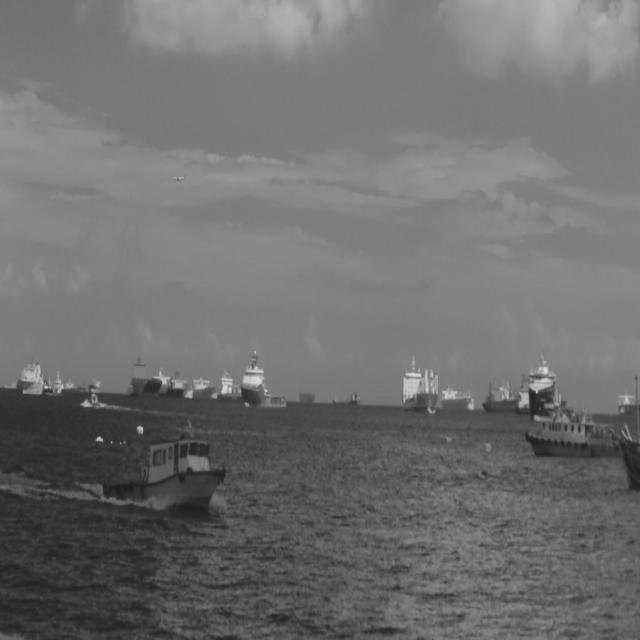buoy: (136, 424, 144, 436)
ship: (101, 414, 226, 509), (526, 376, 633, 459), (241, 344, 288, 406), (528, 348, 568, 420), (401, 353, 438, 414), (125, 354, 163, 398), (481, 371, 518, 412), (619, 429, 639, 493), (17, 354, 45, 396), (440, 379, 474, 412), (183, 372, 218, 401), (218, 363, 241, 401), (165, 362, 188, 397), (618, 386, 640, 416), (50, 368, 66, 396), (332, 391, 360, 406), (88, 376, 101, 392), (90, 390, 99, 408)
